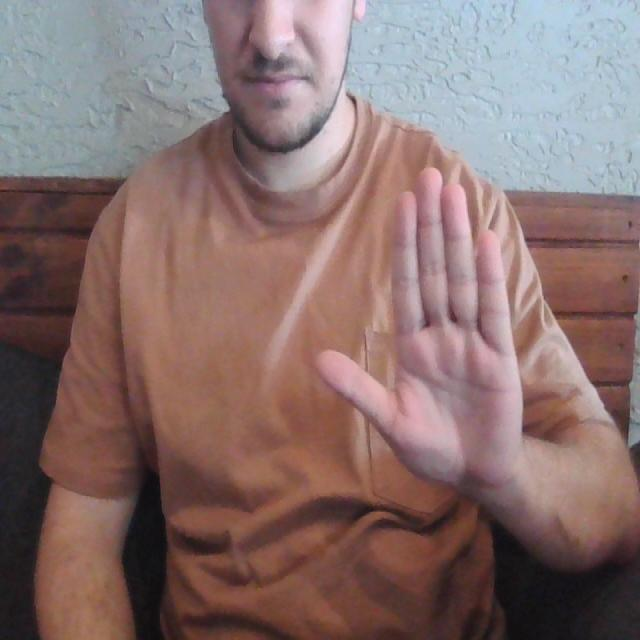Dur: (304, 149, 547, 507)
